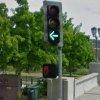Traffic light: (36, 0, 64, 78)
